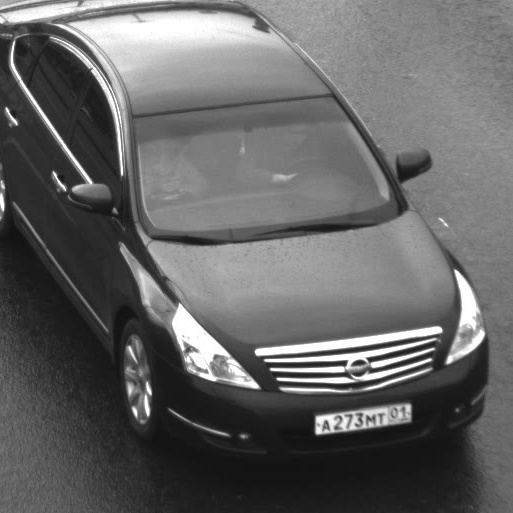plate: (301, 390, 421, 442)
